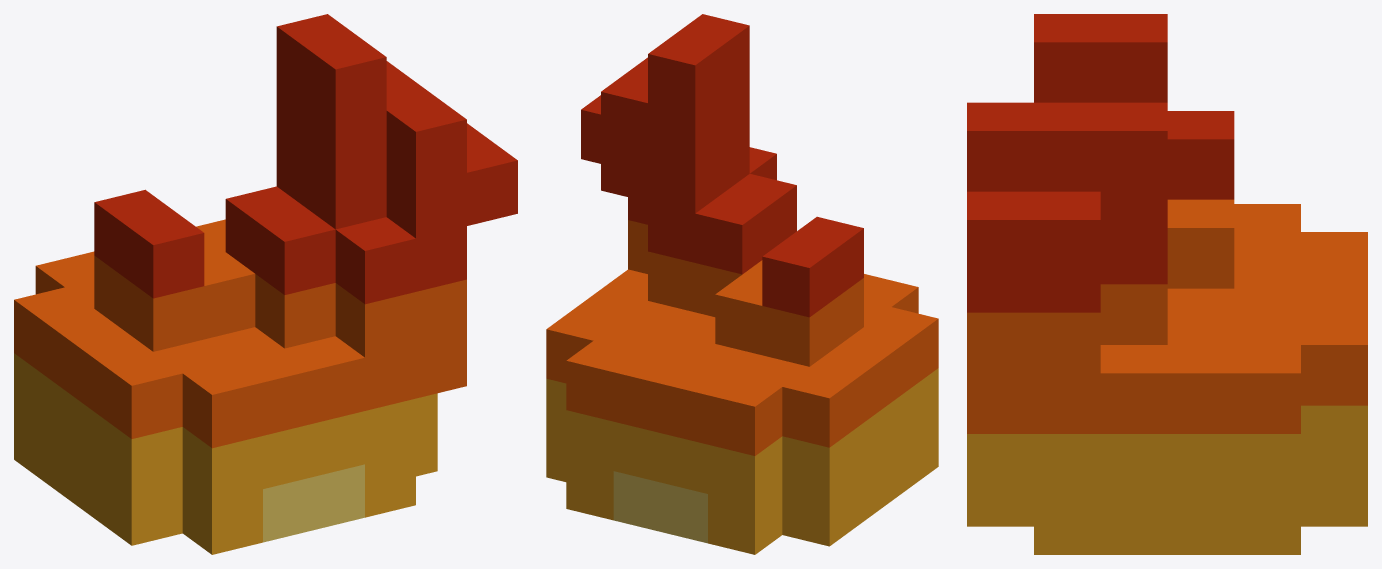
Rendered from flame_07.glb.
3 renders of one model, left to right at view 1: azimuth 30°, elevation 25°; view 2: azimuth 150°, elevation 25°; view 3: azimuth 270°, elevation 25°, orthographic. The views are drawn at different scales.
Visible parts, largest first — view 1: flame_07; view 2: flame_07; view 3: flame_07.
Boxes of the visible parts, x1,y1,x2,y2 form: flame_07: (14, 14, 517, 554); flame_07: (546, 14, 938, 554); flame_07: (967, 14, 1367, 554).
Size of the model in its own units: 0.875 by 1 by 0.75.
